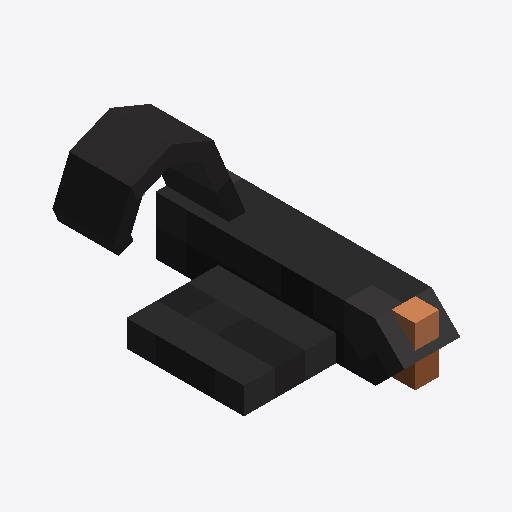
A Minecraft block model of 24 cuboids, rendered isometrically (azimuth 45°, elevation 35.3°) with the resource pack's own textures.
Visible parts, largest first — holographic_sight (×9).
Part boxes in pixels (bbox=[...]): holographic_sight (×9): bbox=[52, 104, 459, 415].
Bounding box in the file's own units: 1.31 × 1.26 × 2.05.